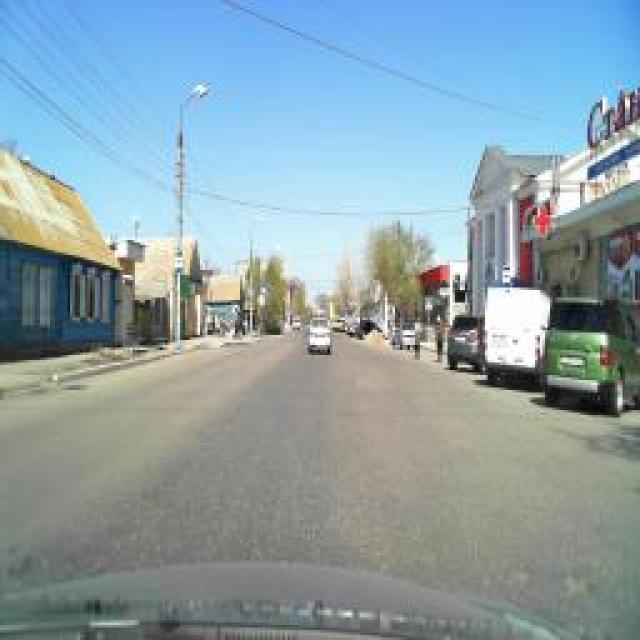sign: (260, 280, 270, 298), (424, 296, 434, 312)
